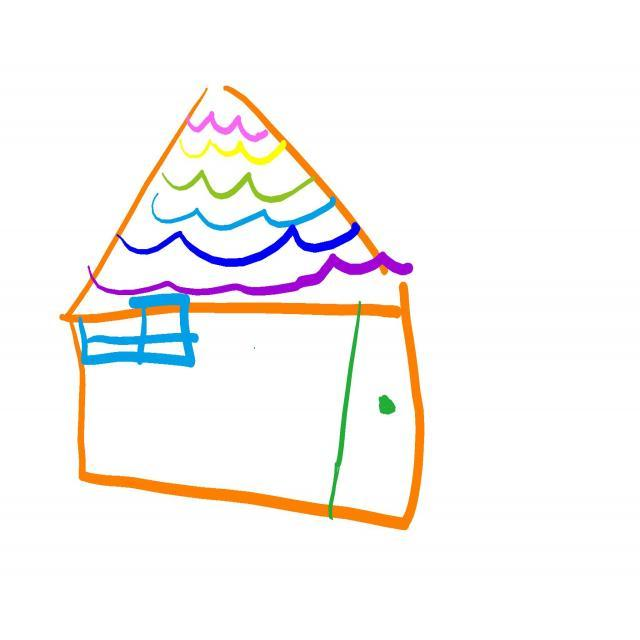door: (319, 299, 425, 533)
house: (61, 86, 425, 530)
roof: (62, 82, 424, 320)
wall: (73, 306, 425, 527)
window: (78, 295, 198, 368)
